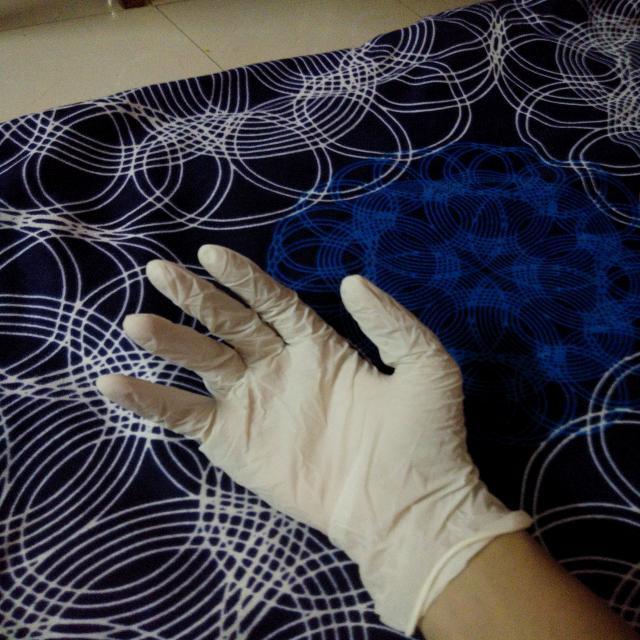glove: (89, 233, 553, 633)
